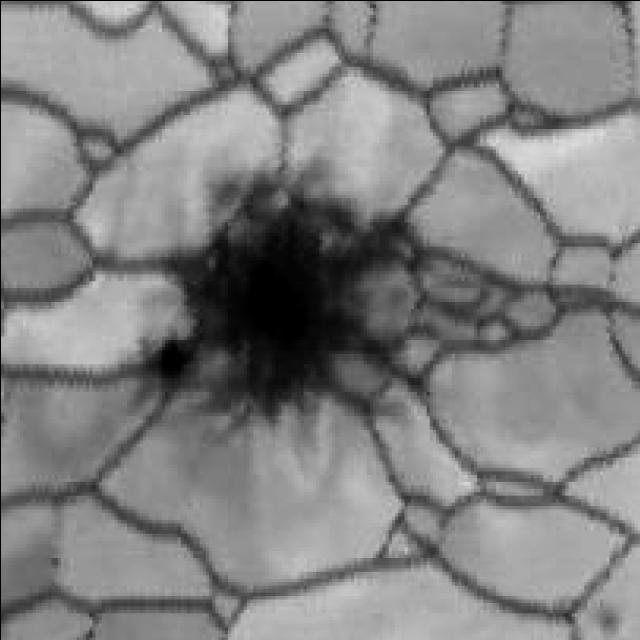good_void: (135, 163, 429, 447)
